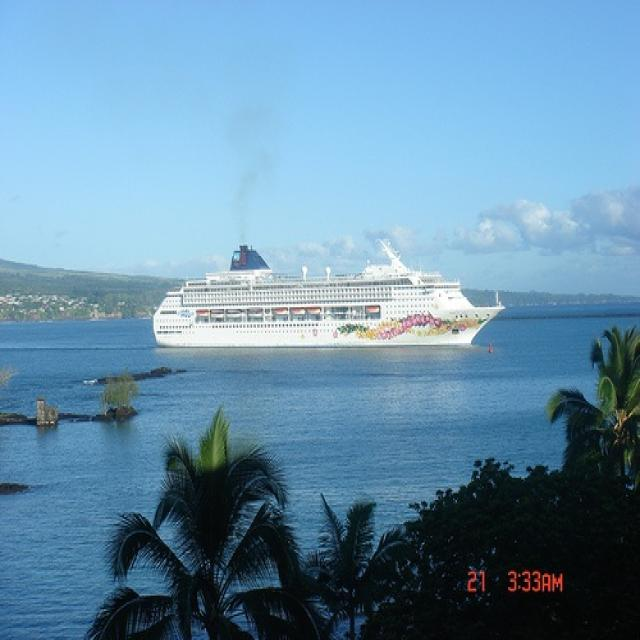boat: (155, 234, 512, 350)
